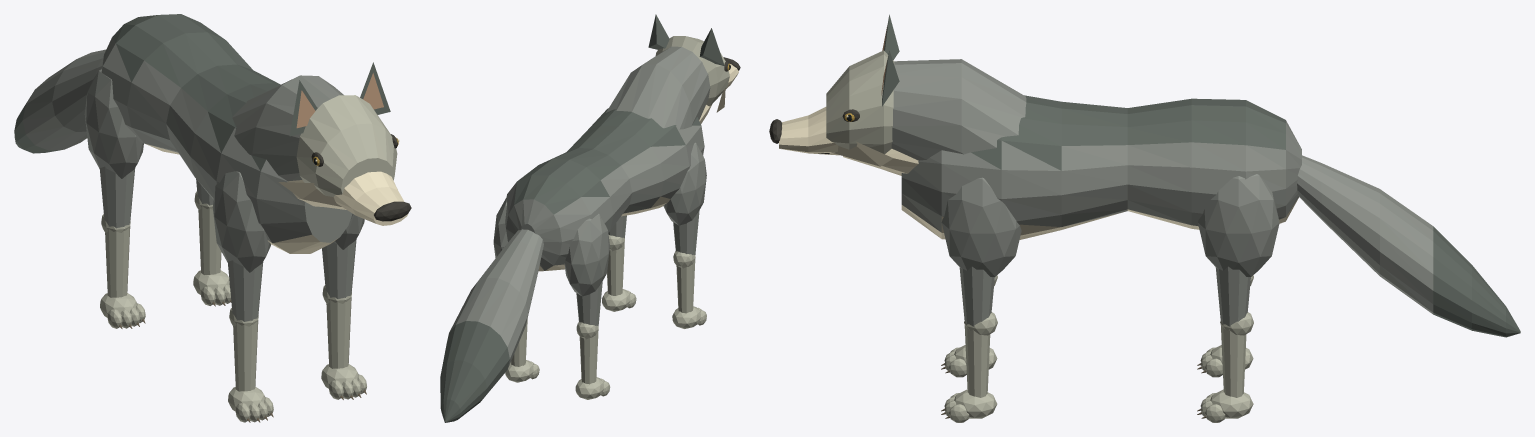
Rendered from wolf.glb.
3 views of the same model, side by side, from view 1: azimuth 30°, elevation 25°; view 2: azimuth 150°, elevation 25°; view 3: azimuth 270°, elevation 25° (orthographic). The views are drawn at different scales.
Visible parts, largest first — view 1: Body_mesh, Head_mesh, Tail_mesh, UpperLeg_mesh, UpperLeg.002_mesh, UpperLeg.001_mesh, LowerLeg_mesh, LowerLeg.002_mesh, LowerLeg.001_mesh, LowerLeg.003_mesh, Foot.001_mesh, Foot_mesh (+4 smaller); view 2: Body_mesh, Tail_mesh, Head_mesh, UpperLeg.002_mesh, UpperLeg_mesh, LowerLeg.002_mesh, LowerLeg_mesh, LowerLeg.001_mesh, Foot.002_mesh, Foot_mesh, Foot.001_mesh, UpperLeg.003_mesh (+4 smaller); view 3: Body_mesh, Head_mesh, Tail_mesh, UpperLeg.003_mesh, UpperLeg.001_mesh, LowerLeg.003_mesh, LowerLeg.001_mesh, Foot.001_mesh, Foot.003_mesh, Foot.002_mesh, Foot_mesh.
Part boxes in pixels (box(x1,y1,x2,y2)): Body_mesh: box(101, 14, 352, 253); Head_mesh: box(232, 75, 411, 225); Tail_mesh: box(14, 49, 106, 153); UpperLeg_mesh: box(212, 171, 270, 321); UpperLeg.002_mesh: box(84, 69, 143, 228); UpperLeg.001_mesh: box(322, 214, 364, 298); LowerLeg_mesh: box(229, 308, 258, 391); LowerLeg.002_mesh: box(101, 214, 130, 297); LowerLeg.001_mesh: box(322, 285, 351, 368); LowerLeg.003_mesh: box(194, 191, 221, 274); Foot.001_mesh: box(321, 364, 366, 399); Foot_mesh: box(228, 386, 273, 422); Body_mesh: box(505, 108, 704, 271); Tail_mesh: box(440, 229, 543, 422); Head_mesh: box(606, 36, 740, 129); UpperLeg.002_mesh: box(564, 214, 609, 325); UpperLeg_mesh: box(663, 142, 706, 254); LowerLeg.002_mesh: box(576, 322, 598, 384); LowerLeg_mesh: box(673, 251, 695, 313); LowerLeg.001_mesh: box(607, 235, 624, 295); Foot.002_mesh: box(575, 377, 610, 399); Foot_mesh: box(672, 306, 706, 328); Foot.001_mesh: box(602, 289, 636, 311); UpperLeg.003_mesh: box(493, 198, 507, 257); Body_mesh: box(901, 95, 1301, 239); Head_mesh: box(769, 50, 1026, 175); Tail_mesh: box(1297, 155, 1520, 337); UpperLeg.003_mesh: box(1198, 174, 1279, 326); UpperLeg.001_mesh: box(941, 177, 1021, 326); LowerLeg.003_mesh: box(1220, 312, 1253, 397); LowerLeg.001_mesh: box(964, 312, 997, 397); Foot.001_mesh: box(941, 389, 997, 422); Foot.003_mesh: box(1197, 389, 1253, 422); Foot.002_mesh: box(1197, 345, 1253, 377); Foot_mesh: box(941, 345, 997, 377).
Bounding box in the file's own units: 0.4868 × 1.22 × 2.29.
